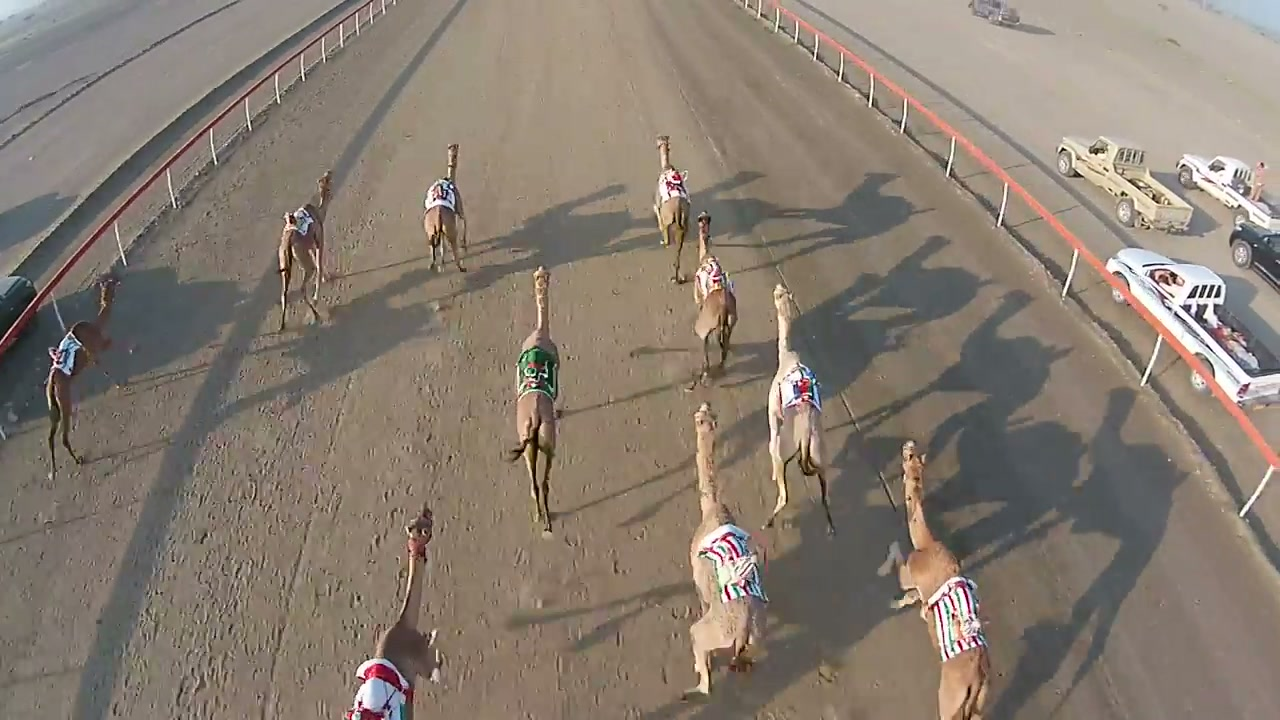animal_footprint: (331, 264, 479, 691), (162, 309, 320, 700), (455, 511, 646, 719), (606, 287, 699, 651), (749, 500, 864, 713)
